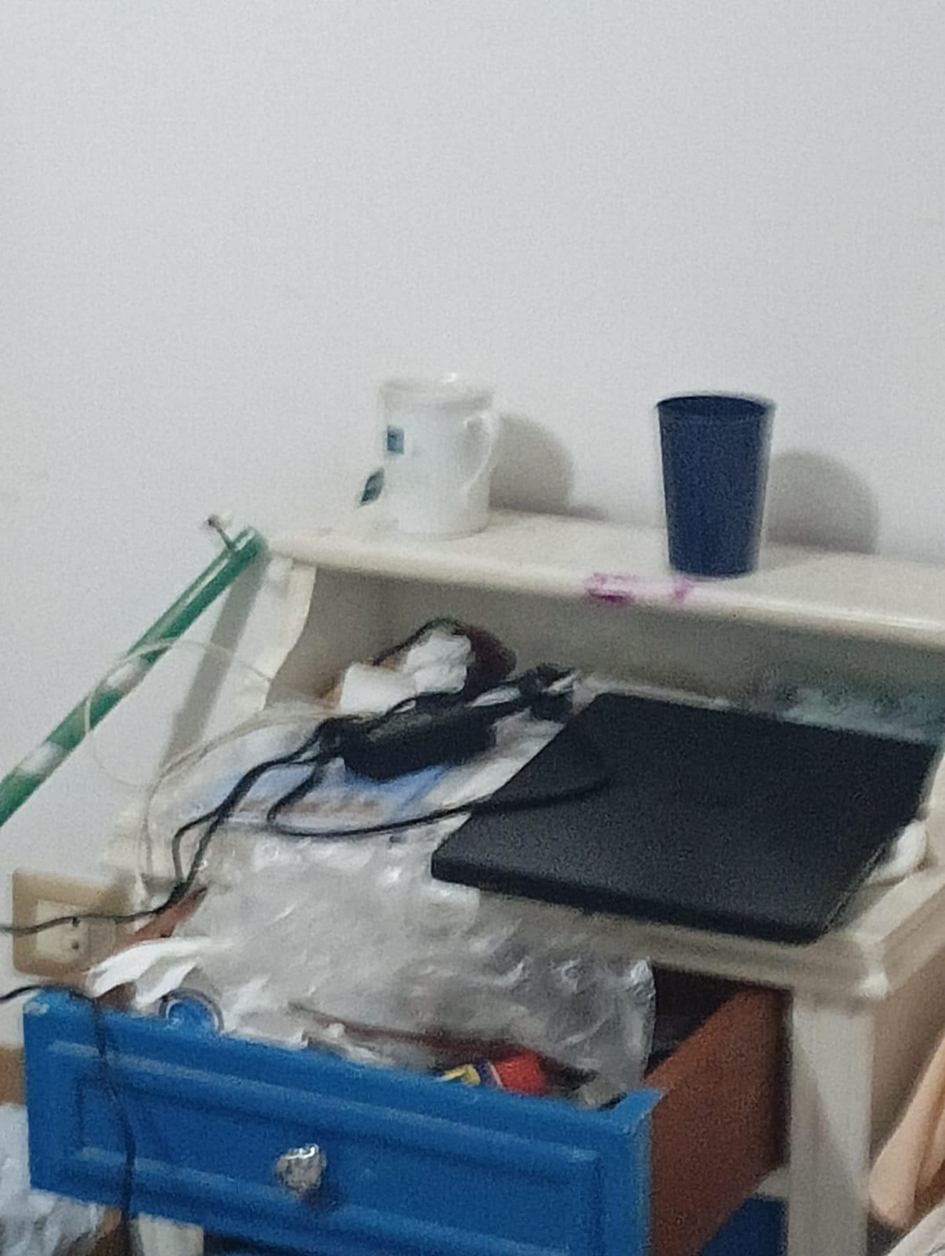cup: (657, 395, 773, 576), (380, 376, 497, 537)
